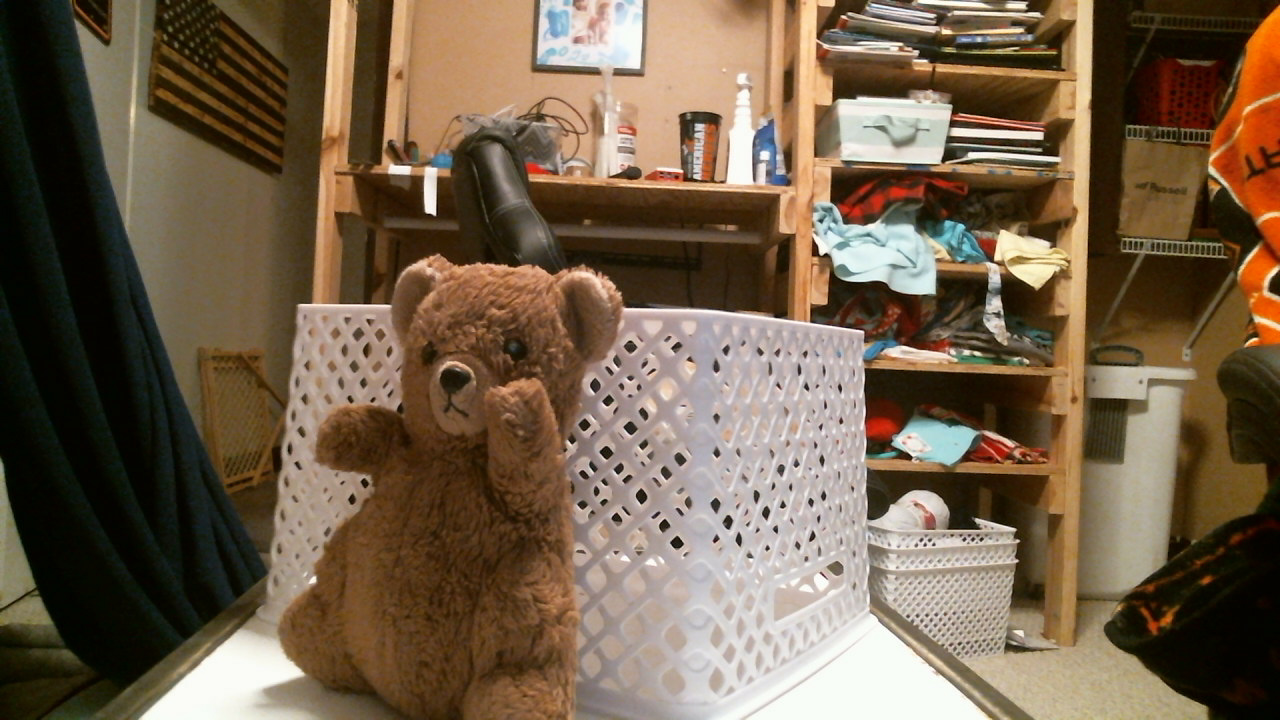Little_Mister_Bear: (428, 332, 528, 435)
